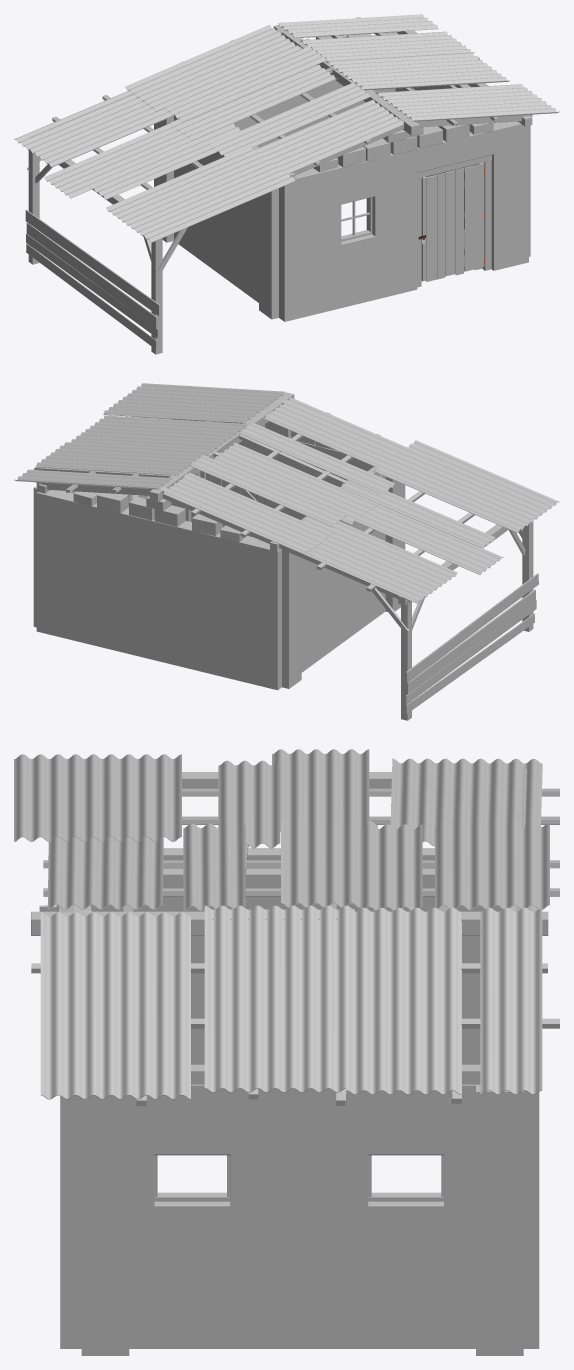
File: StorageBuilding_C.FBX
The picture shows the model from 3 angles, top to bottom: view 1: azimuth 30°, elevation 25°; view 2: azimuth 150°, elevation 25°; view 3: azimuth 270°, elevation 25°; orthographic projection. The views are drawn at different scales.
Parts seen in each view (by area): view 1: Storage_B_cinderblock_exterior, CorrugatedIron_rusty, CorrugatedIron_dirty, WoodenBeams, WoodenDoor, Storage_B_cinderblock_interior, BareWood_DoorFrame, Windowframes_painted; view 2: Storage_B_cinderblock_exterior, CorrugatedIron_rusty, CorrugatedIron_dirty, WoodenBeams, Storage_B_cinderblock_interior; view 3: Storage_B_cinderblock_exterior, CorrugatedIron_rusty, CorrugatedIron_dirty, WoodenBeams, Storage_B_cinderblock_interior, Windowframes_painted.
Boxes of the visible parts, x1,y1,x2,y2 form: Storage_B_cinderblock_exterior: (154, 31, 530, 321); CorrugatedIron_rusty: (14, 14, 559, 199); CorrugatedIron_dirty: (106, 25, 509, 242); WoodenBeams: (25, 17, 532, 354); WoodenDoor: (421, 162, 485, 281); Storage_B_cinderblock_interior: (234, 80, 478, 236); BareWood_DoorFrame: (417, 155, 491, 287); Windowframes_painted: (341, 197, 372, 241); Storage_B_cinderblock_exterior: (33, 417, 405, 690); CorrugatedIron_rusty: (14, 383, 503, 603); CorrugatedIron_dirty: (36, 415, 559, 555); WoodenBeams: (34, 392, 538, 720); Storage_B_cinderblock_interior: (63, 418, 373, 521); Storage_B_cinderblock_exterior: (60, 868, 539, 1355); CorrugatedIron_rusty: (40, 749, 542, 1099); CorrugatedIron_dirty: (14, 754, 549, 1094); WoodenBeams: (31, 769, 559, 1105); Storage_B_cinderblock_interior: (92, 874, 502, 1064); Windowframes_painted: (154, 1154, 444, 1201).
Size of the model in its own units: 460 by 180 by 270.
